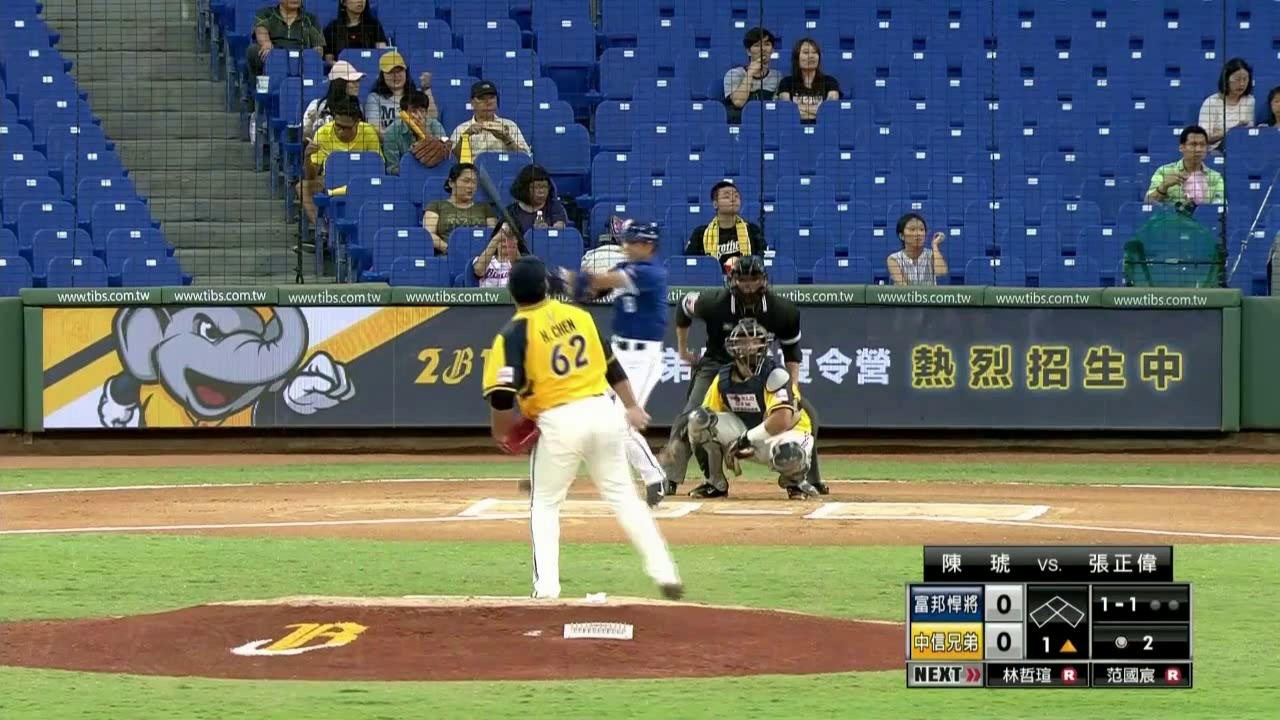base: (1030, 592, 1086, 635)
bat: (480, 172, 534, 258)
out: (1148, 597, 1192, 616)
score1: (992, 588, 1015, 617)
score2: (994, 626, 1017, 659)
session: (1027, 632, 1082, 659)
strikeball: (1096, 594, 1144, 618)
total: (1108, 627, 1159, 656)
